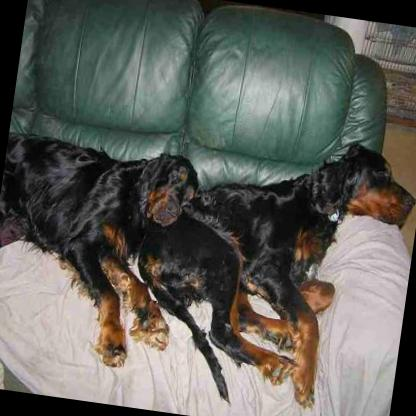Gordon_setter: (118, 108, 416, 416), (0, 124, 203, 376)
